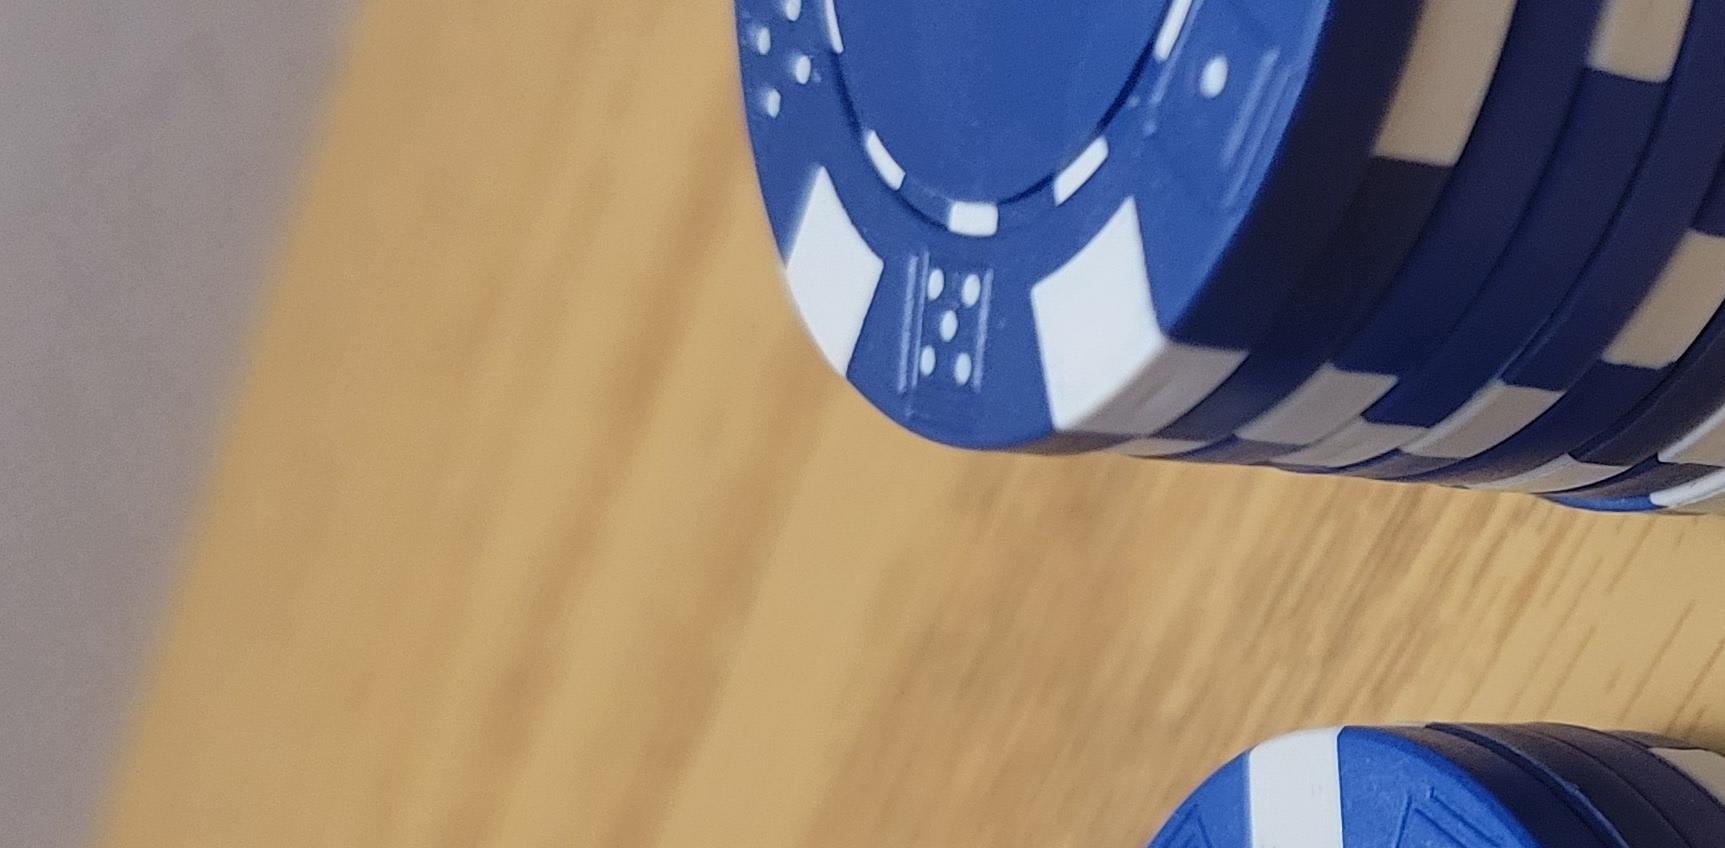Chip: (1, 302, 1237, 848)
